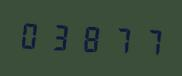eight: (76, 19, 104, 56)
seven: (105, 20, 133, 58), (134, 22, 162, 59)
three: (47, 17, 75, 55)
zero: (18, 16, 46, 53)
